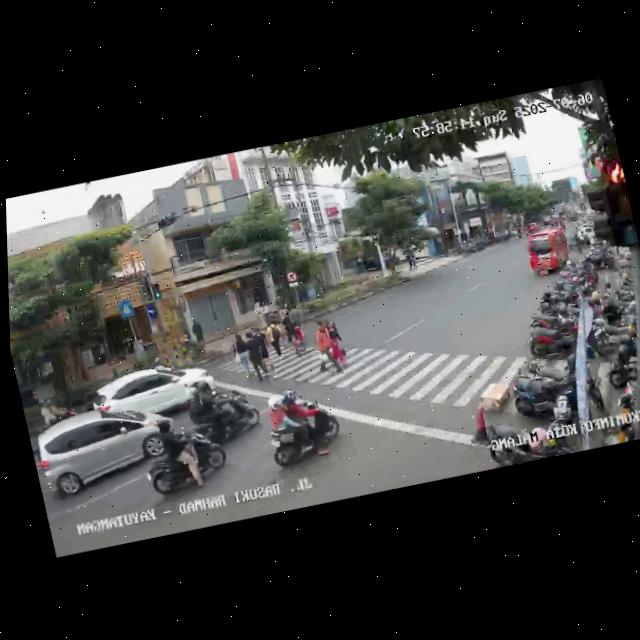car: (26, 398, 179, 508), (86, 353, 220, 420), (522, 224, 575, 279)
motorcycle: (132, 402, 230, 504), (257, 381, 345, 473), (183, 371, 265, 449)
person: (311, 319, 344, 378), (280, 307, 310, 358), (324, 318, 350, 369), (244, 330, 269, 383), (251, 325, 276, 374), (229, 333, 254, 381), (264, 317, 286, 359), (252, 302, 266, 330)
